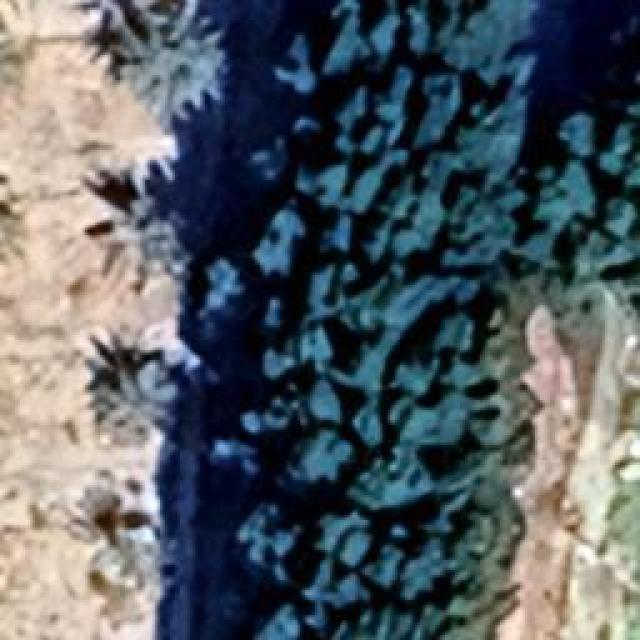PalmTree: (47, 113, 136, 566), (120, 0, 238, 125), (114, 178, 214, 294), (100, 367, 185, 445), (330, 612, 478, 638), (15, 107, 47, 219), (0, 4, 25, 111), (0, 14, 19, 111)
